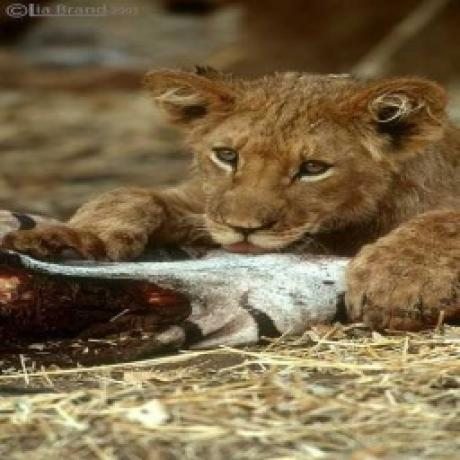Lion: (57, 61, 460, 327)
